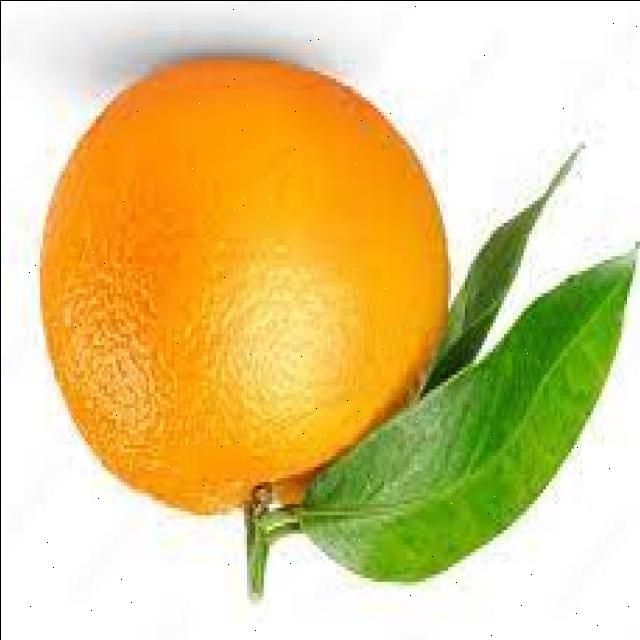Orange: (38, 56, 453, 518)
